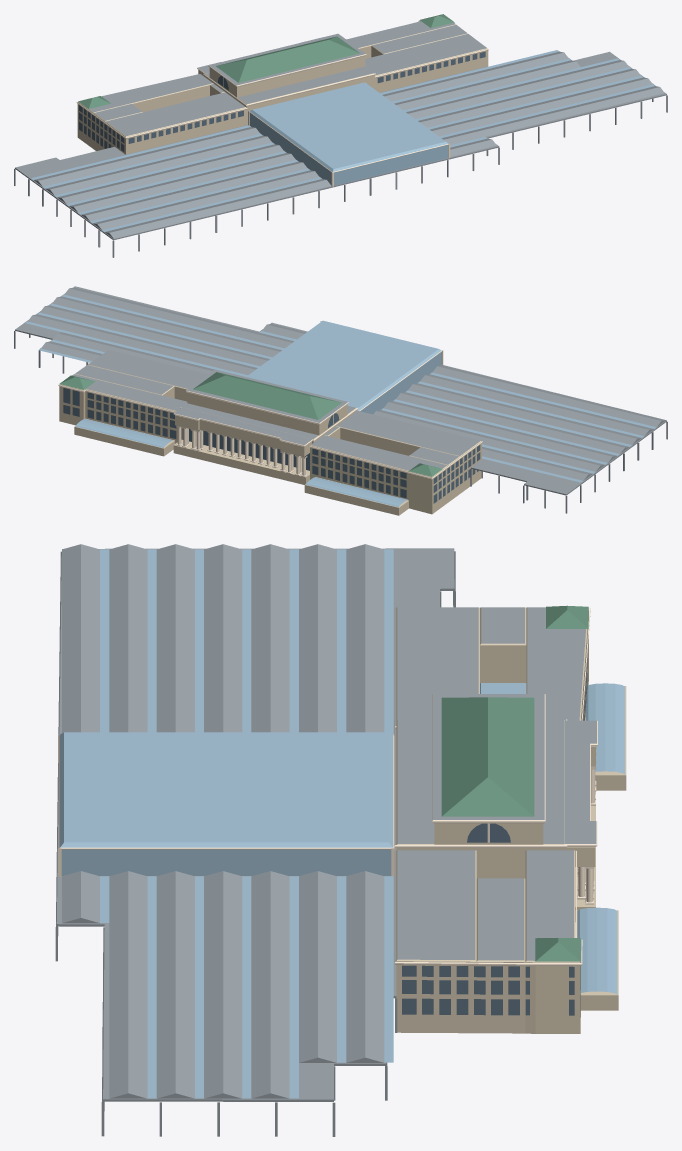
The model's file is tor-union-station.glb.
3 renders of one model, top to bottom at view 1: azimuth 30°, elevation 25°; view 2: azimuth 150°, elevation 25°; view 3: azimuth 270°, elevation 25°, orthographic. The views are drawn at different scales.
Parts seen in each view (by area): view 1: Union Station; view 2: Union Station; view 3: Union Station.
Boxes of the visible parts, left/top/right/bottom form: Union Station: left=14, top=14, right=667, bottom=257; Union Station: left=14, top=286, right=667, bottom=515; Union Station: left=55, top=544, right=626, bottom=1136.
Size of the model in its own units: 356 by 36.8 by 155.
